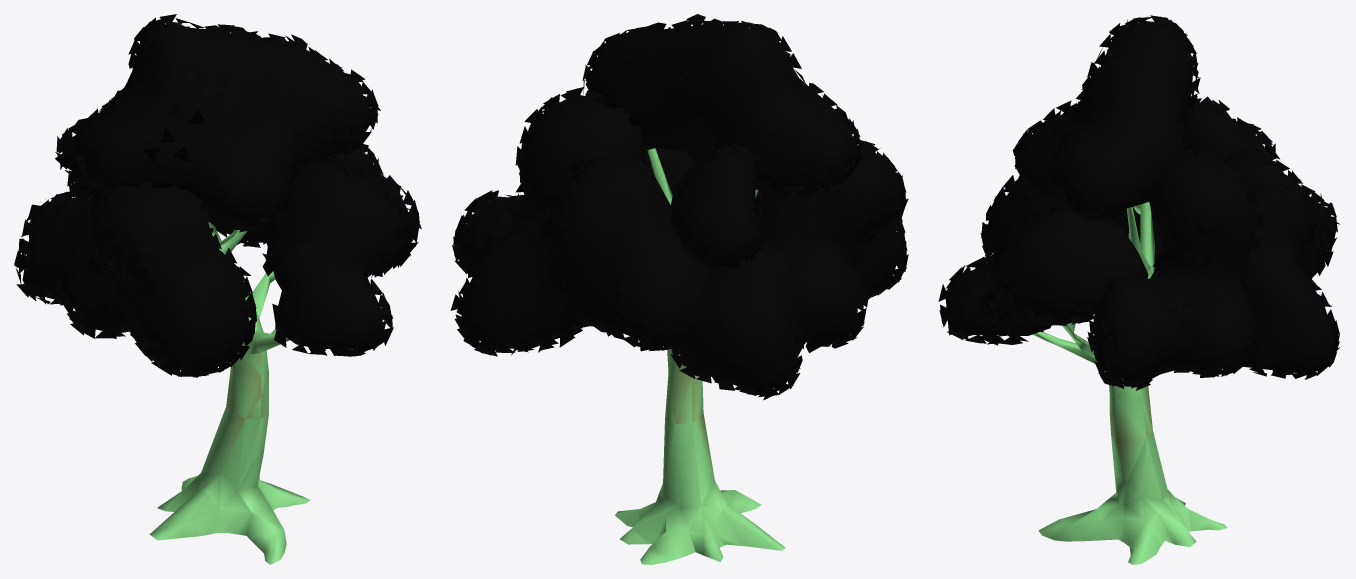
The model's file is SM_ENV_LKNVLD_Tree_A_Lod1.gltf.
3 views of the same model, side by side, from view 1: azimuth 30°, elevation 25°; view 2: azimuth 150°, elevation 25°; view 3: azimuth 270°, elevation 25° (orthographic). The views are drawn at different scales.
Parts seen in each view (by area): view 1: SM_ENV_LKNVLD_Tree_A_Lod1; view 2: SM_ENV_LKNVLD_Tree_A_Lod1; view 3: SM_ENV_LKNVLD_Tree_A_Lod1.
Part boxes in pixels (x1,y1,x2,y2): SM_ENV_LKNVLD_Tree_A_Lod1: [14, 14, 421, 564]; SM_ENV_LKNVLD_Tree_A_Lod1: [450, 14, 908, 564]; SM_ENV_LKNVLD_Tree_A_Lod1: [938, 15, 1340, 564].
Bounding box in the file's own units: 10.05 × 13.93 × 10.27.
